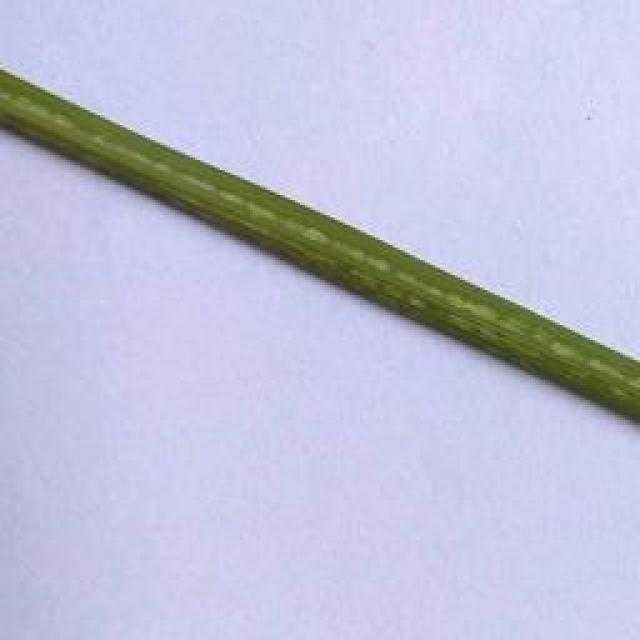Healthy-Plant: (0, 66, 640, 424)
